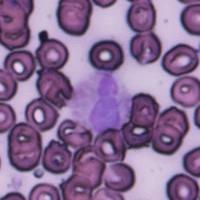M: (70, 68, 132, 136)
